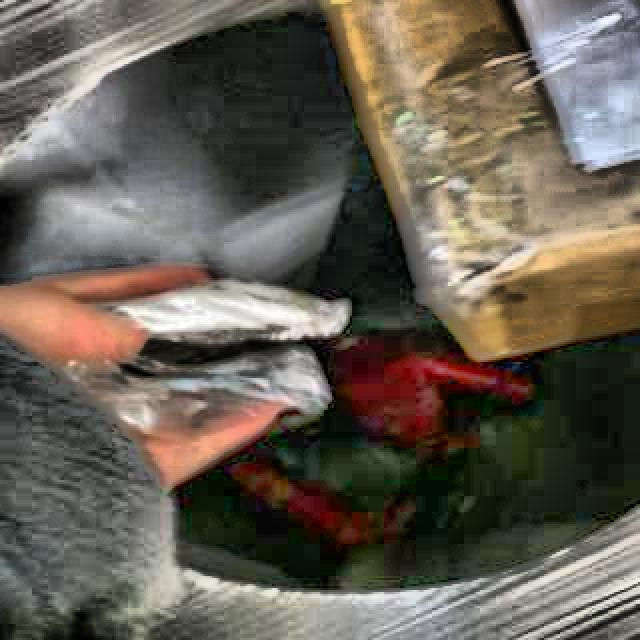metal: (60, 279, 348, 434)
